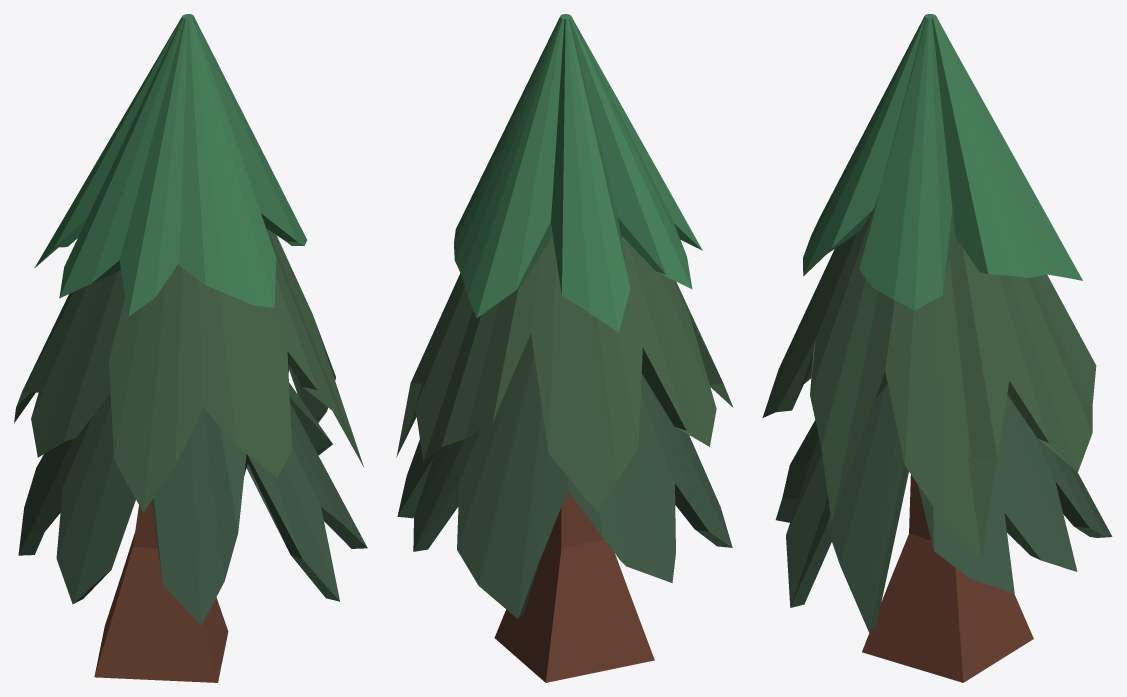
The model's file is leaftree1.fbx.
3 views of the same model, side by side, from view 1: azimuth 30°, elevation 25°; view 2: azimuth 150°, elevation 25°; view 3: azimuth 270°, elevation 25° (orthographic). The views are drawn at different scales.
Visible parts, largest first — view 1: leaftree1; view 2: leaftree1; view 3: leaftree1.
Part boxes in pixels (x1,y1,x2,y2): leaftree1: (14, 14, 367, 682); leaftree1: (396, 14, 733, 682); leaftree1: (762, 14, 1112, 682).
Size of the model in its own units: 1.87 by 3.85 by 1.91.
